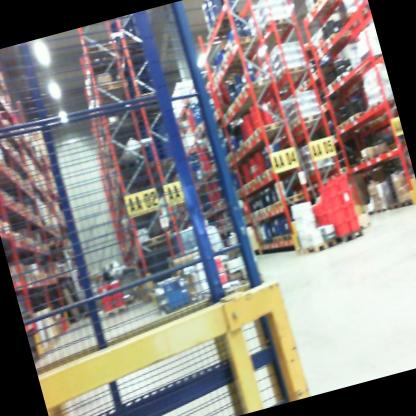pallet: (90, 68, 135, 103), (254, 11, 298, 45), (235, 71, 278, 105), (227, 27, 270, 61), (267, 57, 312, 89), (270, 187, 318, 217), (298, 227, 339, 259), (83, 35, 124, 67), (288, 107, 329, 137), (319, 22, 358, 51), (300, 1, 343, 27), (250, 113, 288, 142), (130, 227, 173, 252), (209, 4, 248, 31), (99, 300, 133, 328), (224, 45, 262, 68), (335, 223, 369, 247), (357, 147, 391, 168), (204, 22, 241, 41), (345, 105, 373, 130), (258, 162, 285, 187), (311, 0, 345, 18), (368, 94, 392, 118), (330, 114, 352, 137), (225, 90, 246, 111), (332, 162, 356, 180), (239, 133, 258, 154), (371, 200, 391, 218), (311, 42, 328, 62), (396, 194, 415, 208), (387, 194, 400, 212), (361, 206, 376, 219), (119, 293, 135, 305)
small_load_carrier: (328, 215, 354, 242), (320, 186, 345, 213), (324, 199, 348, 226), (314, 178, 341, 201), (336, 169, 356, 194), (109, 289, 127, 314), (347, 213, 363, 237), (336, 181, 352, 204), (340, 199, 357, 216), (96, 294, 112, 311), (96, 282, 111, 294), (109, 280, 122, 292)
